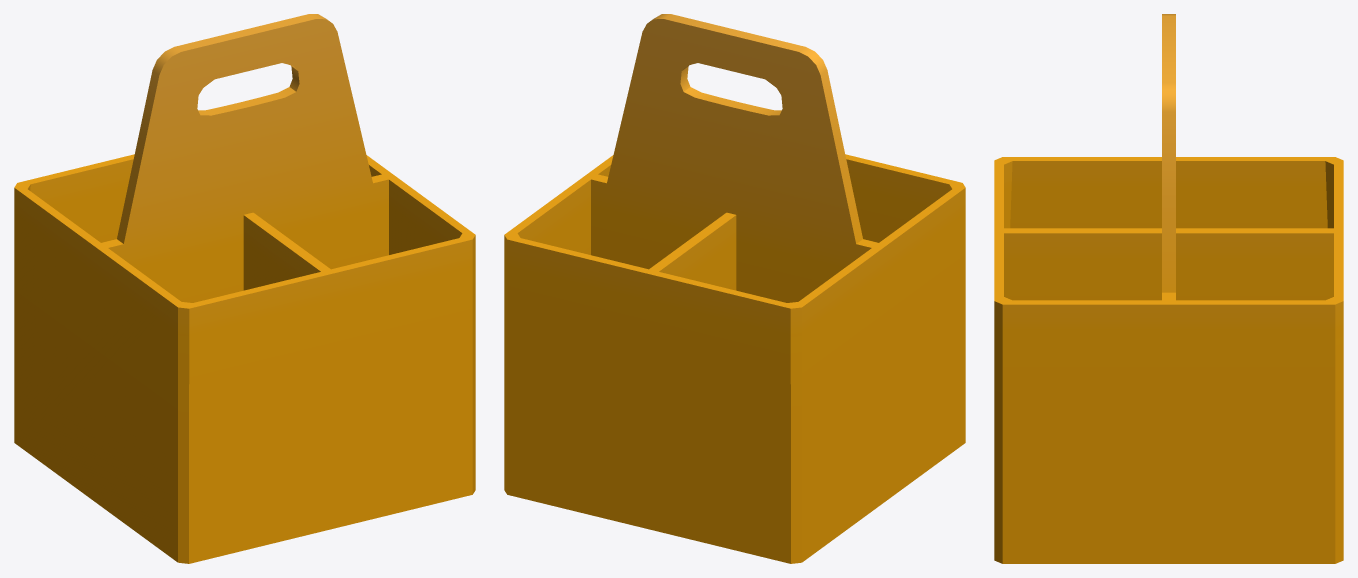
The model's file is Beer_basket.fbx.
3 views of the same model, side by side, from view 1: azimuth 30°, elevation 25°; view 2: azimuth 150°, elevation 25°; view 3: azimuth 270°, elevation 25° (orthographic).
Visible parts, largest first — view 1: Beer_basket; view 2: Beer_basket; view 3: Beer_basket.
Boxes of the visible parts, <box> form: Beer_basket: <box>14,14,475,563</box>; Beer_basket: <box>504,14,965,563</box>; Beer_basket: <box>994,14,1343,563</box>.
Bounding box in the file's own units: 153 × 153 × 213.
